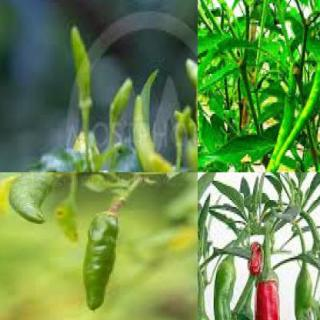green_chilli: (269, 22, 319, 172), (257, 62, 299, 172), (133, 72, 177, 172), (80, 218, 126, 308), (5, 172, 62, 223), (70, 24, 94, 110), (292, 263, 320, 319), (108, 76, 134, 134), (213, 258, 236, 319)
